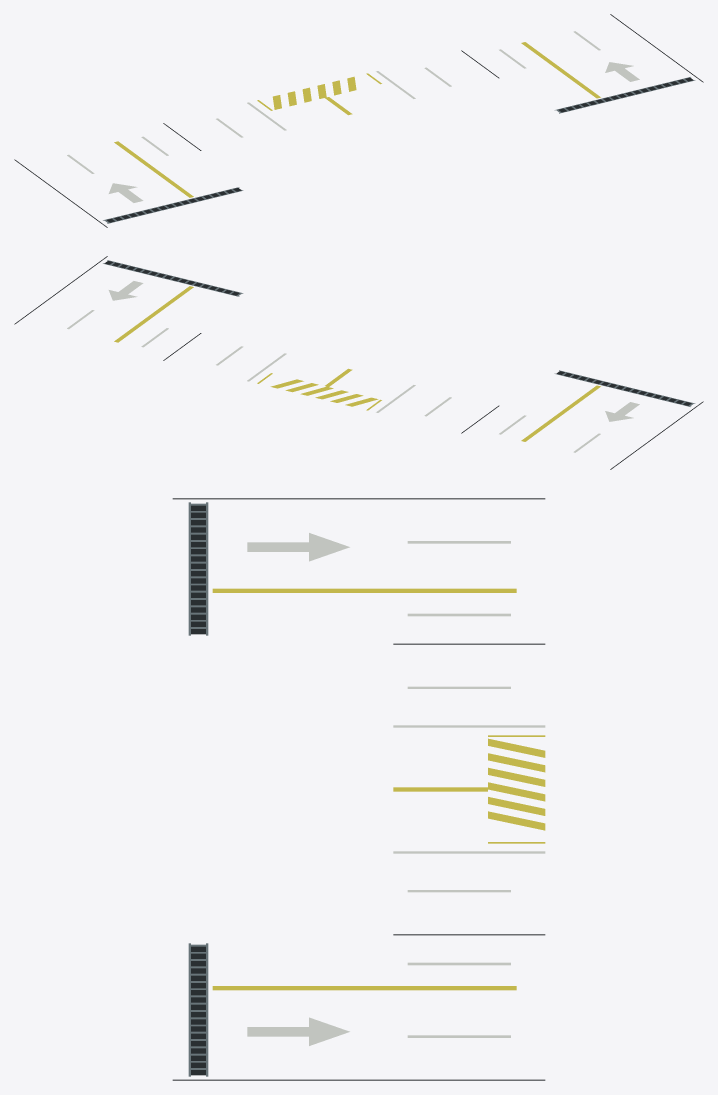
The model's file is sm_env_shed_yard_large.glb.
3 views of the same model, one above another, from view 1: azimuth 30°, elevation 25°; view 2: azimuth 150°, elevation 25°; view 3: azimuth 270°, elevation 25° (orthographic). The views are drawn at different scales.
Parts seen in each view (by area): view 1: Lane.001, Lane; view 2: Lane, Lane.001; view 3: Lane, Lane.001, LaneArrow, LaneArrow.001.
Boxes of the visible parts, x1,y1,x2,y2 form: Lane.001: (521, 42, 600, 98); Lane: (114, 141, 193, 197); Lane: (521, 385, 600, 441); Lane.001: (114, 286, 193, 342); Lane: (212, 588, 516, 592); Lane.001: (212, 986, 516, 990); LaneArrow: (247, 533, 349, 561); LaneArrow.001: (247, 1017, 349, 1045).
Bounding box in the file's own units: 24.04 × 0 × 6.5.
